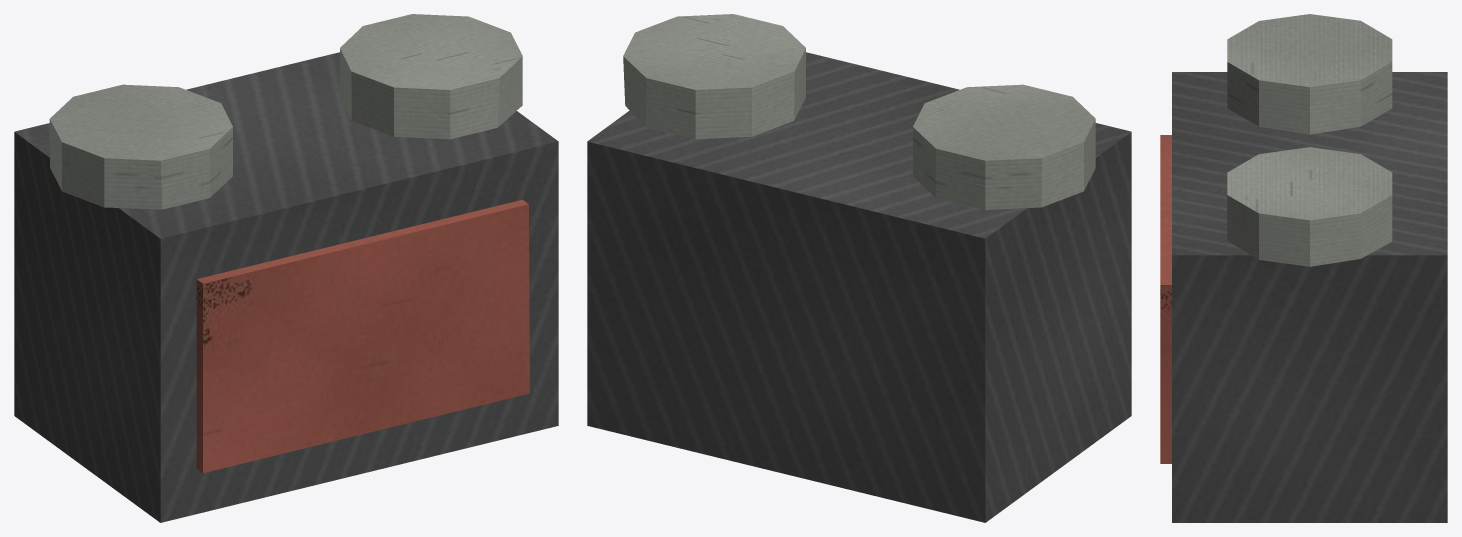
File: alarmclock_v3.glb
The picture shows the model from 3 angles, left to right: view 1: azimuth 30°, elevation 25°; view 2: azimuth 150°, elevation 25°; view 3: azimuth 270°, elevation 25°; orthographic projection. The views are drawn at different scales.
Parts seen in each view (by area): view 1: Variant_alarmclock_3; view 2: Variant_alarmclock_3; view 3: Variant_alarmclock_3.
Boxes of the visible parts, bbox=[...] form: Variant_alarmclock_3: bbox=[14, 14, 558, 522]; Variant_alarmclock_3: bbox=[587, 14, 1131, 522]; Variant_alarmclock_3: bbox=[1160, 14, 1447, 522].
Size of the model in its own units: 0.124 by 0.088 by 0.073.
3 materials, 3 textured.
